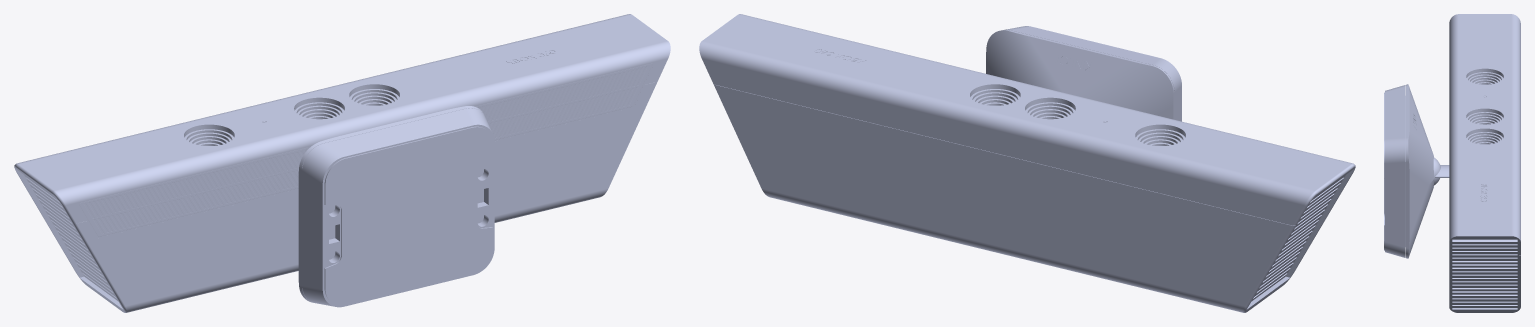
File: kinect.FBX
3 views of the same model, side by side, from view 1: azimuth 30°, elevation 25°; view 2: azimuth 150°, elevation 25°; view 3: azimuth 270°, elevation 25° (orthographic). The views are drawn at different scales.
Parts seen in each view (by area): view 1: Mirror8, Mirror4; view 2: Mirror8, Mirror4; view 3: Mirror8, Mirror4.
Boxes of the visible parts, x1,y1,x2,y2 form: Mirror8: (14, 14, 670, 312); Mirror4: (298, 106, 494, 307); Mirror8: (699, 14, 1355, 312); Mirror4: (986, 26, 1181, 121); Mirror8: (1433, 14, 1520, 312); Mirror4: (1384, 84, 1433, 258).
Bounding box in the file's own units: 11 × 2.76 × 2.85.
